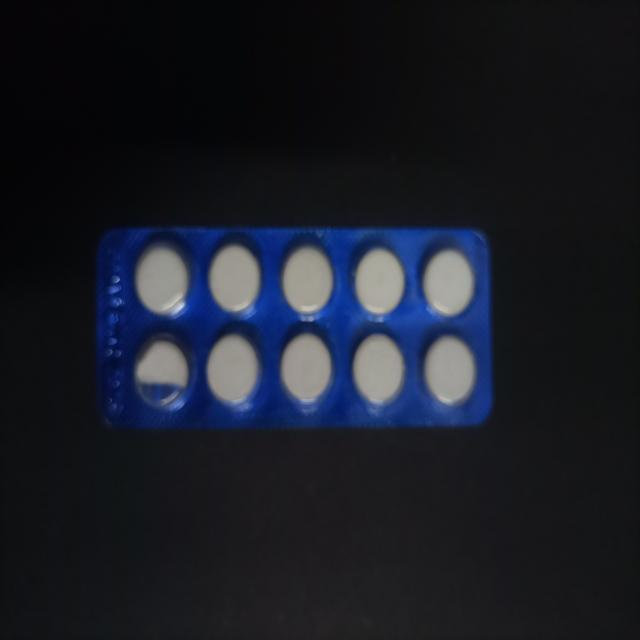defect: (128, 328, 198, 420)
